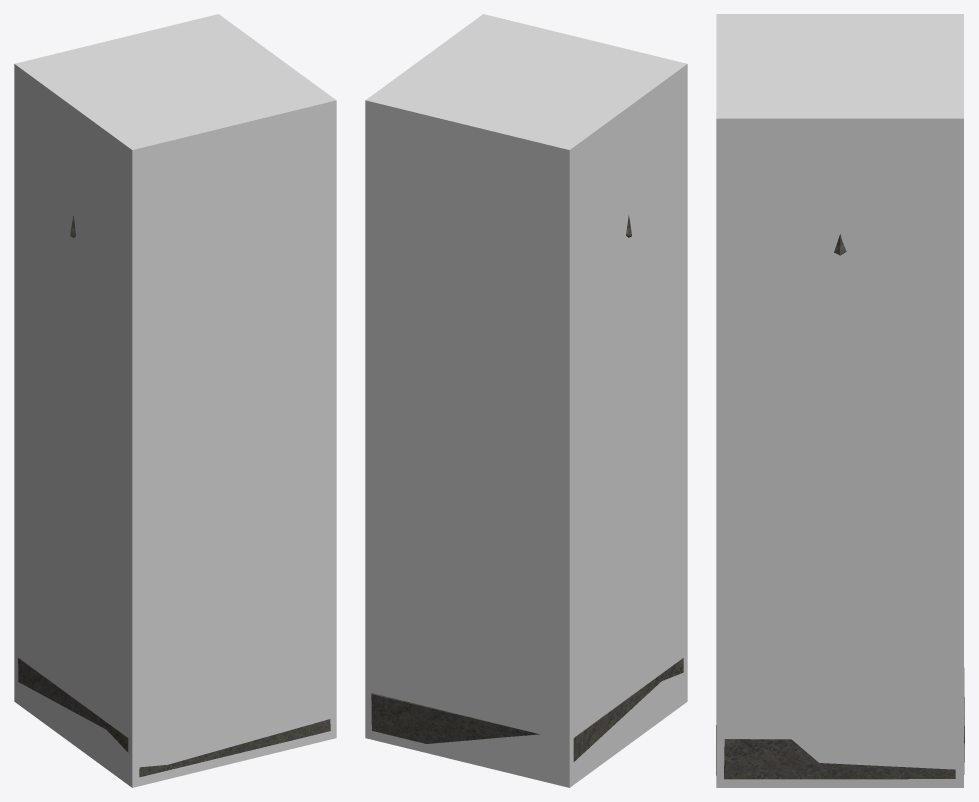
File: urn_plinth_v1.glb
3 renders of one model, left to right at view 1: azimuth 30°, elevation 25°; view 2: azimuth 150°, elevation 25°; view 3: azimuth 270°, elevation 25°, orthographic. The views are drawn at different scales.
Visible parts, largest first — view 1: col_urn, urn_plinth; view 2: col_urn, urn_plinth; view 3: col_urn, urn_plinth.
Boxes of the visible parts, x1,y1,x2,y2 form: col_urn: (14,14,336,787); urn_plinth: (18,215,330,777); col_urn: (365,14,687,787); urn_plinth: (371,215,683,761); col_urn: (716,14,963,787); urn_plinth: (716,234,964,779).
Size of the model in its own units: 0.6397 by 1.85 by 0.6235.
Materials: 1 (1 with a texture image).
